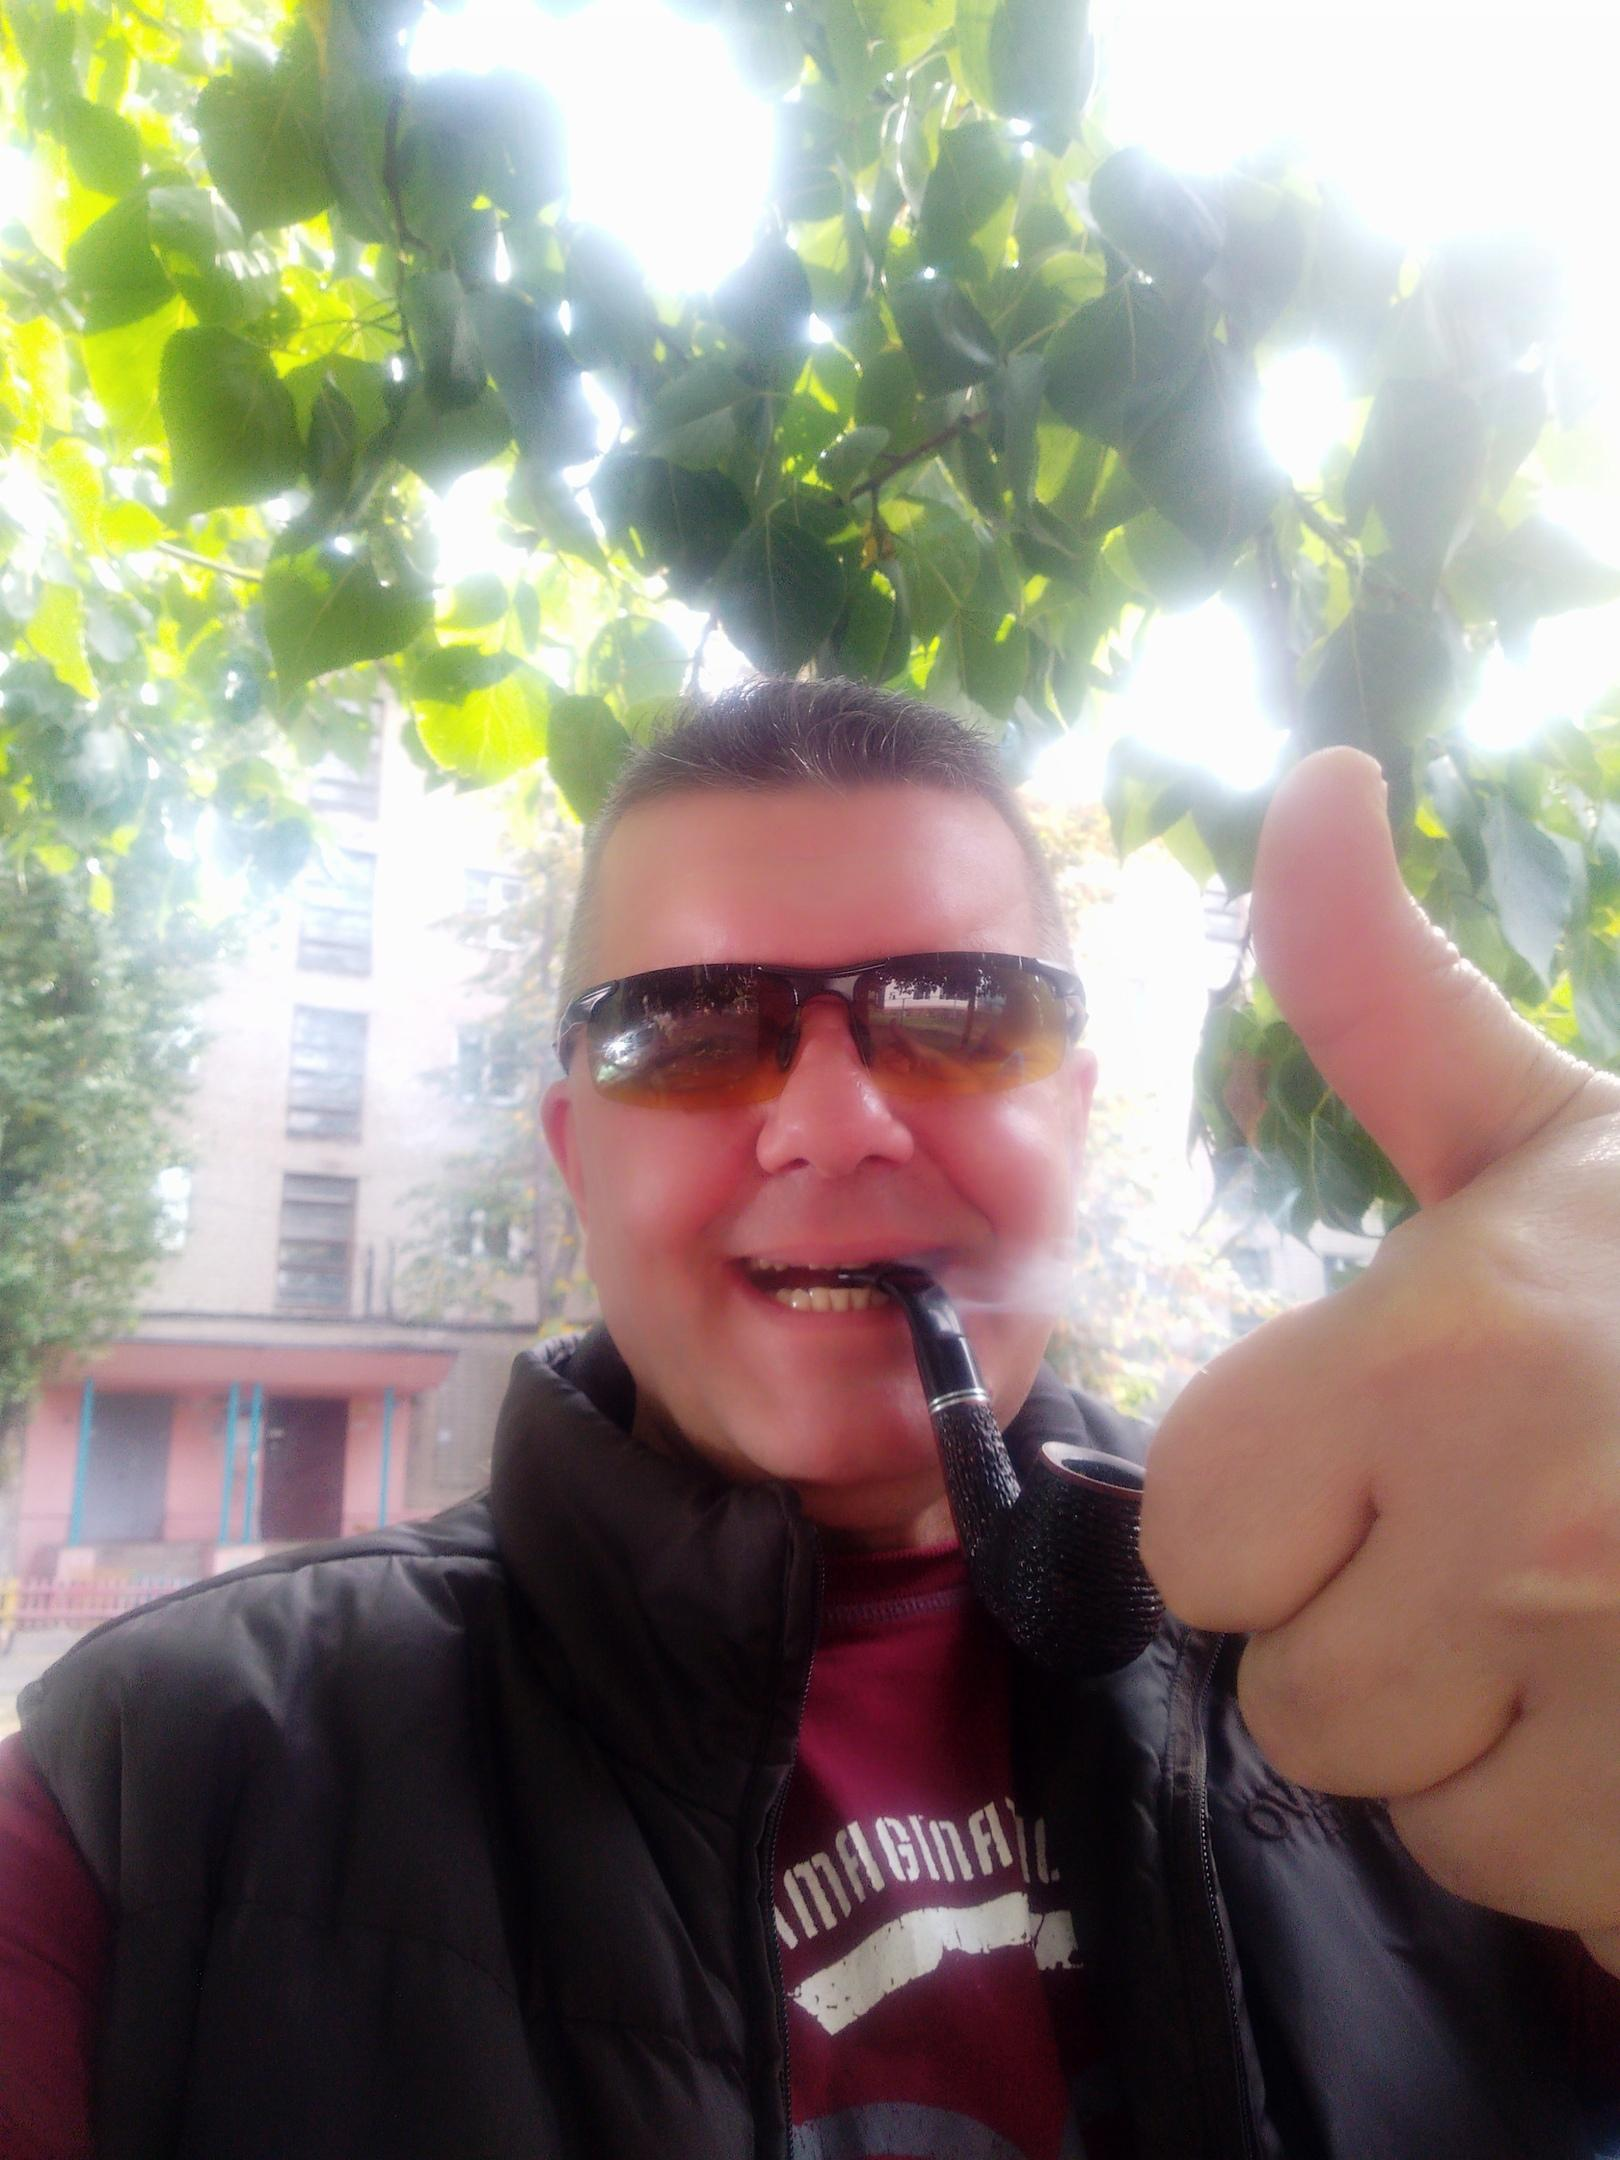trubka: (834, 1262, 1167, 1677)
